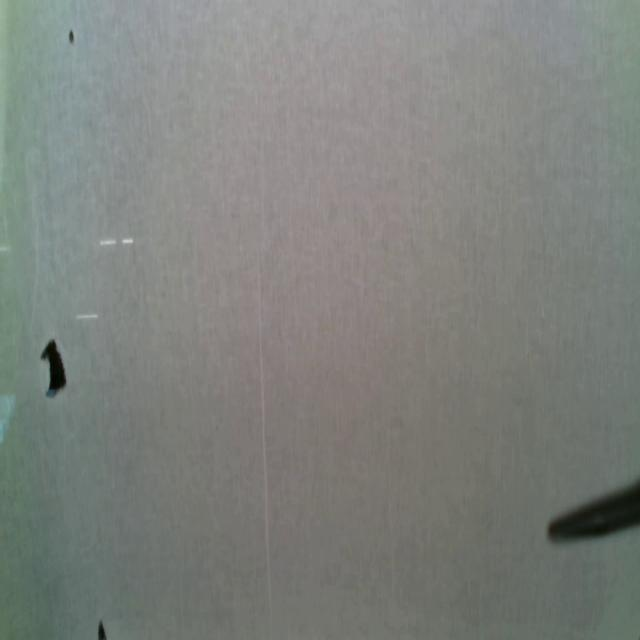crease: (254, 247, 274, 640)
hole: (41, 335, 68, 400), (98, 617, 105, 640), (68, 29, 74, 45)
